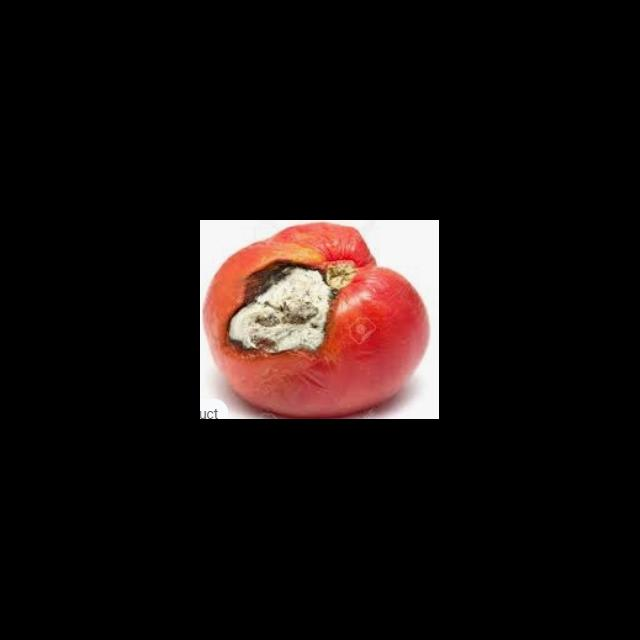tomato: (209, 222, 434, 415)
